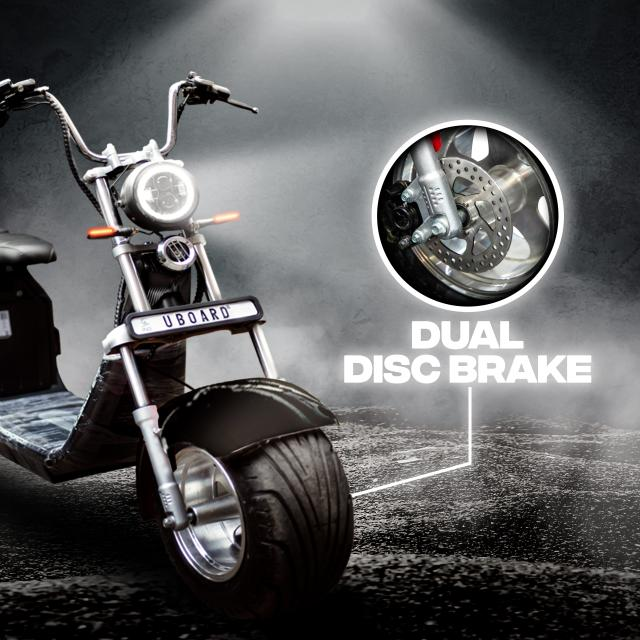Bike: (0, 68, 357, 585)
